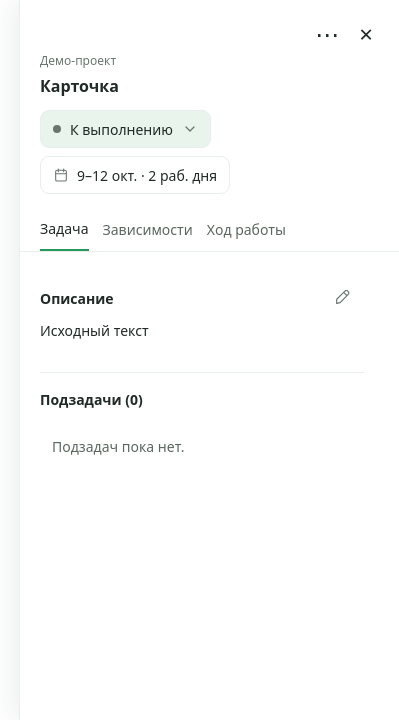
it: description Отмена restores the text without writing
Click the button named "Изменить описание": (342,298) [320, 276, 364, 320]
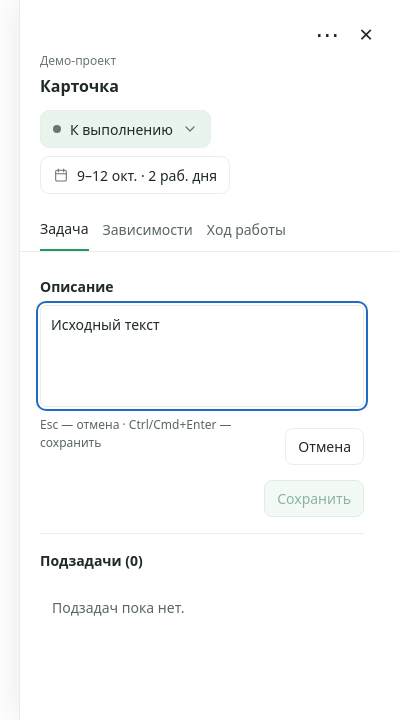
In the text box named "Описание": (202,356) [40, 305, 364, 407], type " изменён"
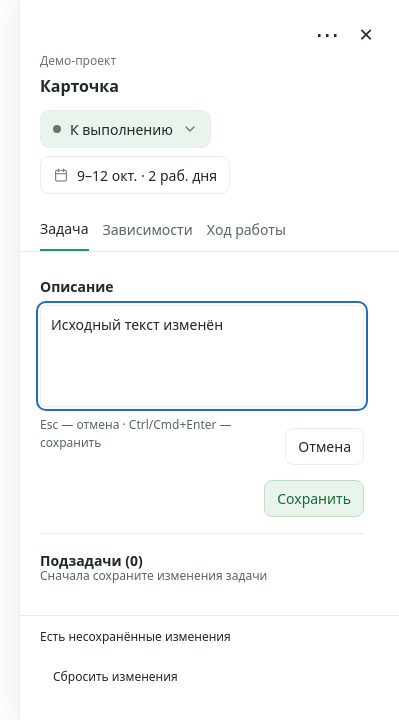
Click the button "Отмена": (325,446) [285, 428, 364, 464]
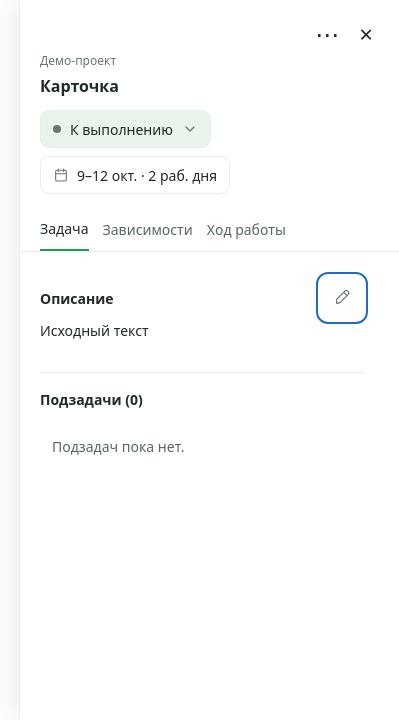
Result: the text "Исходный текст" is shown at [40, 321, 149, 340]
